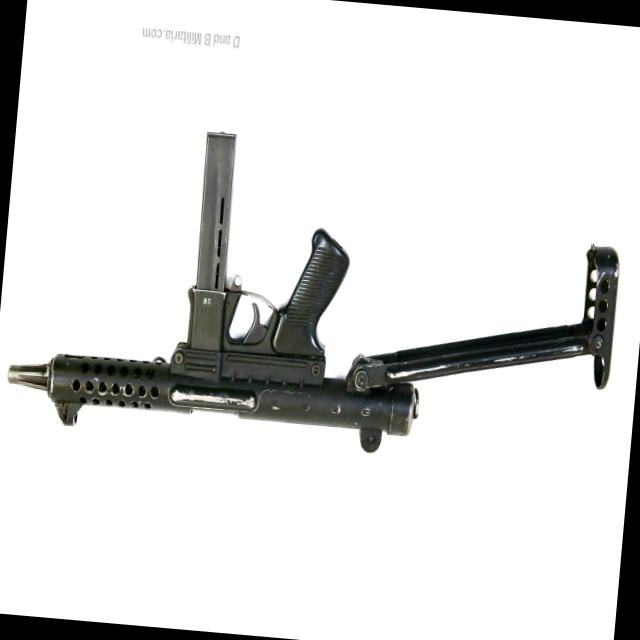Weapon: (0, 107, 634, 482)
